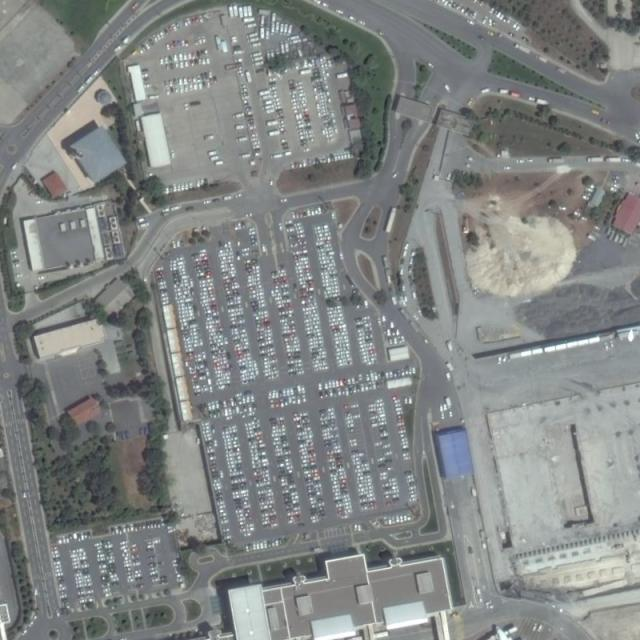vehicle: (549, 158, 565, 164), (606, 157, 622, 162), (588, 157, 604, 162)
